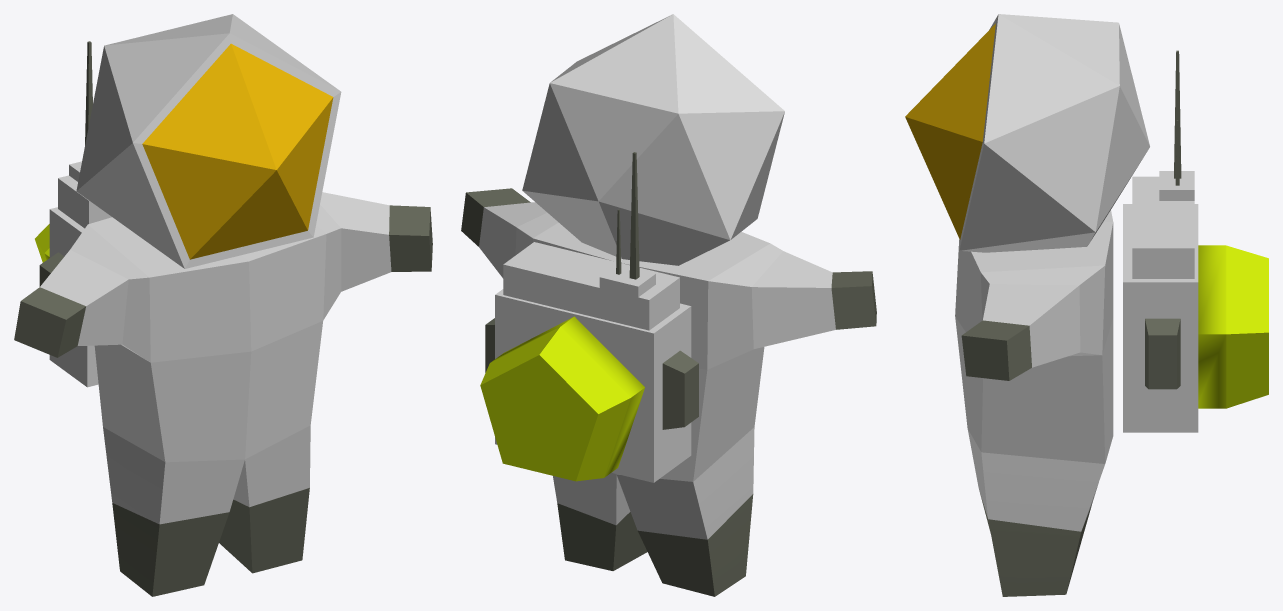
File: Astronaut.fbx
3 renders of one model, left to right at view 1: azimuth 30°, elevation 25°; view 2: azimuth 150°, elevation 25°; view 3: azimuth 270°, elevation 25°, orthographic.
Visible parts, largest first — view 1: Player, Bag; view 2: Player, Bag, Storage; view 3: Player, Bag, Storage.
Boxes of the visible parts, x1,y1,x2,y2 form: Player: [14, 14, 432, 596]; Bag: [39, 41, 111, 387]; Player: [461, 14, 876, 596]; Bag: [485, 152, 698, 482]; Storage: [480, 316, 644, 481]; Player: [905, 14, 1149, 596]; Bag: [1123, 50, 1198, 432]; Storage: [1198, 245, 1268, 408].
Bounding box in the file's own units: 1.9 × 2.37 × 1.43.
